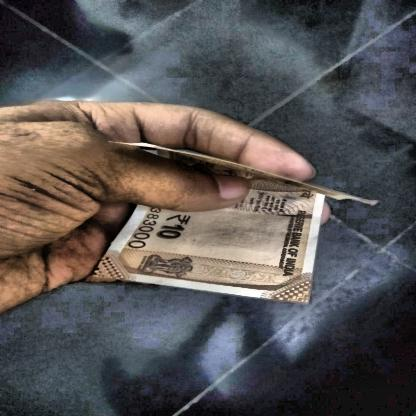Rs10: (151, 211, 198, 244)
